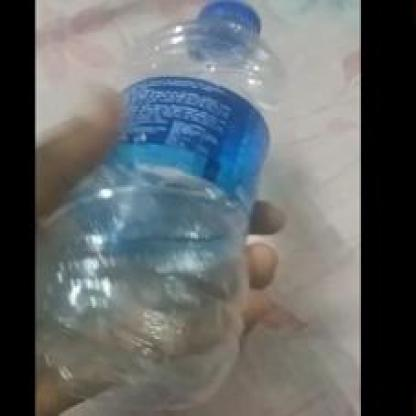bottle: (54, 0, 284, 409)
